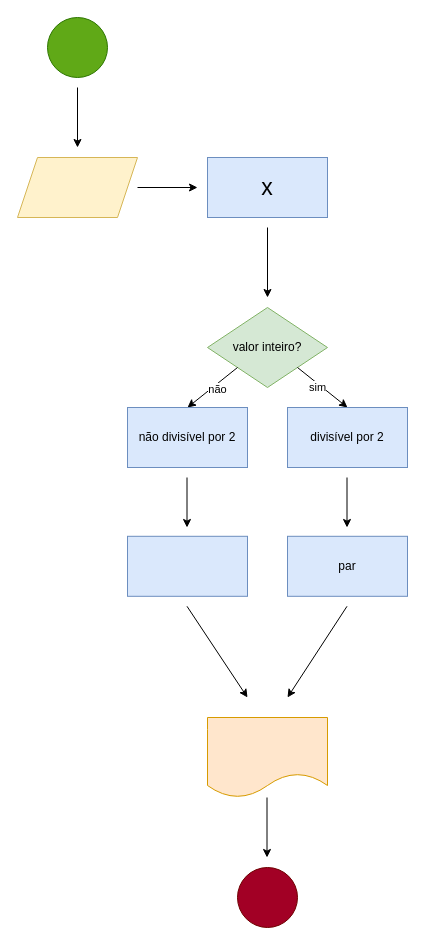
Some shapes in this 425 by 945 pixel diagram are drawn without their labels. The shapes that lost their labels are listed below. From the top down, each one's centre as x and y in pixels, then its label:
At pixel 77 187: "usuário informa um número".
At pixel 187 565: "impar".
At pixel 267 757: "imprimir resultado".
